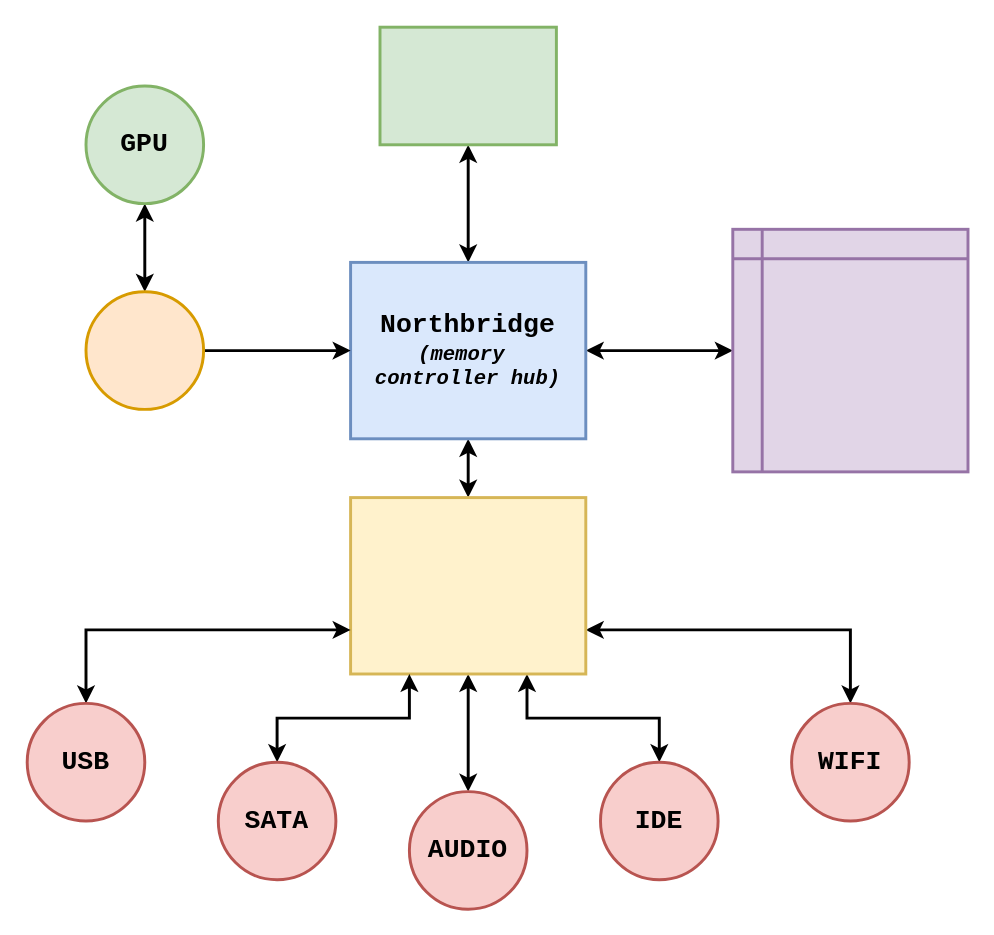
Some shapes in this 994 by 935 pixel diagram are drawn without their labels. The shapes that lost their labels are listed below. From the top down, each one's centre as x and y in pixels, then its label:
At point 467,85: "CPU".
At point 144,350: "PCI-E".
At point 850,350: "RAM".
At point 467,585: "Southbridge (I/O controller hub)".
